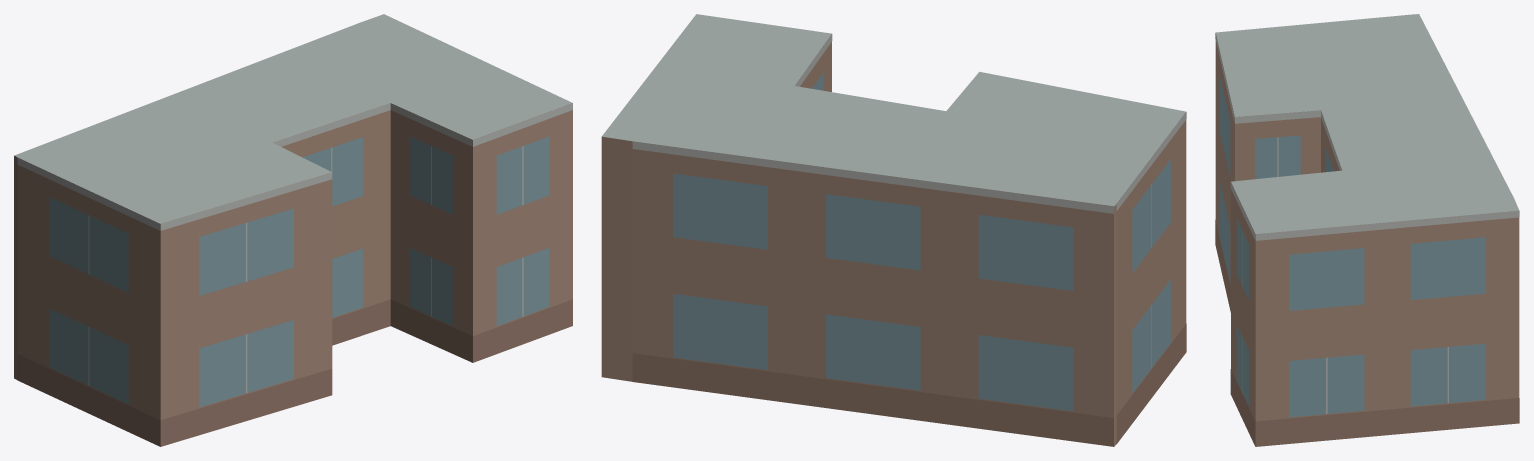
File: survey-upis-32896349.glb
3 views of the same model, side by side, from view 1: azimuth 30°, elevation 25°; view 2: azimuth 150°, elevation 25°; view 3: azimuth 270°, elevation 25° (orthographic). The views are drawn at different scales.
Parts seen in each view (by area): view 1: survey-upis-32896349.tmp; view 2: survey-upis-32896349.tmp; view 3: survey-upis-32896349.tmp.
Boxes of the visible parts, x1,y1,x2,y2 form: survey-upis-32896349.tmp: (14,14,572,446); survey-upis-32896349.tmp: (601,14,1186,446); survey-upis-32896349.tmp: (1215,14,1519,446).
Bounding box in the file's own units: 17.1 × 7.7 × 9.97.
